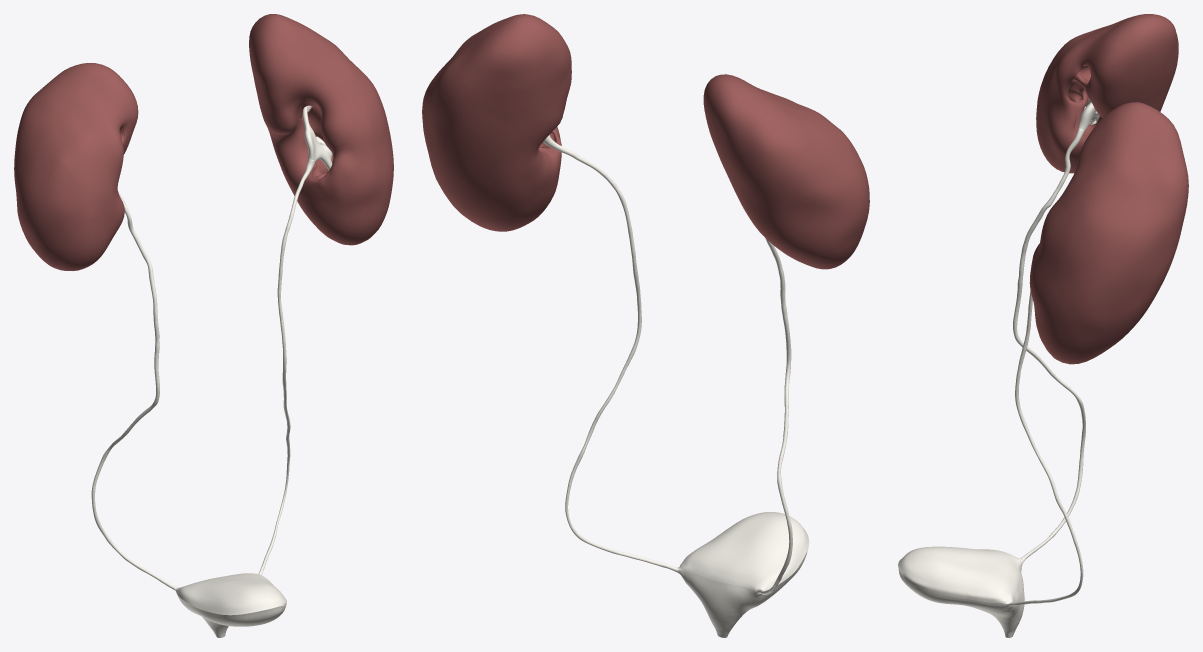
File: urinary-meshopt.glb
3 views of the same model, side by side, from view 1: azimuth 30°, elevation 25°; view 2: azimuth 150°, elevation 25°; view 3: azimuth 270°, elevation 25° (orthographic). The views are drawn at different scales.
Parts seen in each view (by area): view 1: VH_F_kidney_capsule_L, VH_F_kidney_capsule_R, VH_F_fundus_of_urinary_bladder_dome, VH_F_right_ureter, VH_F_left_ureter, VH_F_fundus_of_urinary_bladder_base, VH_F_hilum_of_kidney_L, VH_F_renal_pelvis_L; view 2: VH_F_kidney_capsule_L, VH_F_kidney_capsule_R, VH_F_fundus_of_urinary_bladder_dome, VH_F_fundus_of_urinary_bladder_base, VH_F_left_ureter, VH_F_right_ureter; view 3: VH_F_kidney_capsule_L, VH_F_kidney_capsule_R, VH_F_fundus_of_urinary_bladder_dome, VH_F_right_ureter, VH_F_fundus_of_urinary_bladder_base, VH_F_left_ureter, VH_F_hilum_of_kidney_R.
Boxes of the visible parts, x1,y1,x2,y2 form: VH_F_kidney_capsule_L: (249, 14, 393, 245); VH_F_kidney_capsule_R: (14, 63, 138, 270); VH_F_fundus_of_urinary_bladder_dome: (176, 573, 286, 615); VH_F_right_ureter: (91, 192, 177, 590); VH_F_left_ureter: (258, 159, 314, 575); VH_F_fundus_of_urinary_bladder_base: (177, 594, 285, 633); VH_F_hilum_of_kidney_L: (299, 103, 333, 179); VH_F_renal_pelvis_L: (303, 115, 324, 162); VH_F_kidney_capsule_L: (422, 14, 571, 231); VH_F_kidney_capsule_R: (703, 74, 869, 269); VH_F_fundus_of_urinary_bladder_dome: (678, 512, 809, 591); VH_F_fundus_of_urinary_bladder_base: (678, 551, 807, 633); VH_F_left_ureter: (543, 135, 678, 572); VH_F_right_ureter: (757, 238, 792, 594); VH_F_kidney_capsule_L: (1029, 102, 1188, 364); VH_F_kidney_capsule_R: (1036, 14, 1178, 173); VH_F_fundus_of_urinary_bladder_dome: (898, 546, 1023, 603); VH_F_right_ureter: (1013, 128, 1085, 562); VH_F_fundus_of_urinary_bladder_base: (898, 562, 1024, 632); VH_F_left_ureter: (1008, 290, 1083, 606); VH_F_hilum_of_kidney_R: (1065, 65, 1101, 136).
Bounding box in the file's own units: 0.2219 × 0.3186 × 0.1418.
